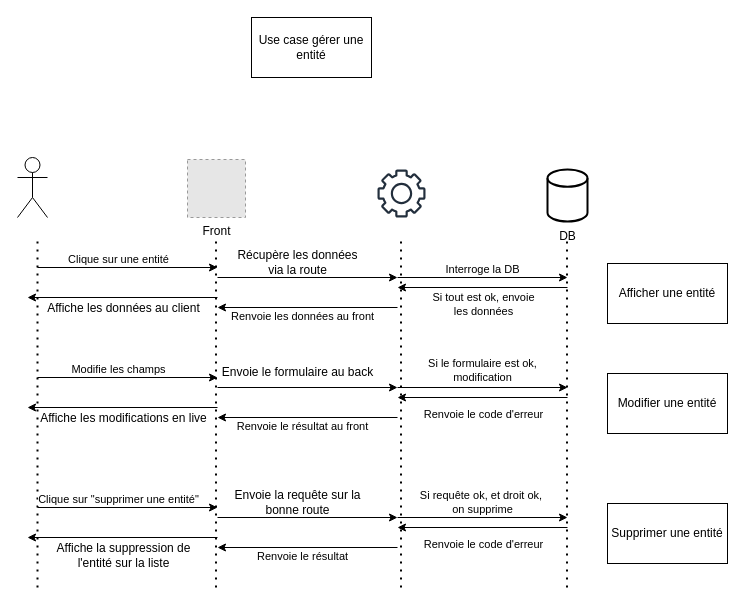
The diagram is 745 pixels wide and 607 high, and some of its shapes have lost their labels. Grey dashed boxes stand in for pictures. The centre of each missing label's shape, as x and y in pixels:
Back: (x=401, y=193)
User: (x=32, y=187)
